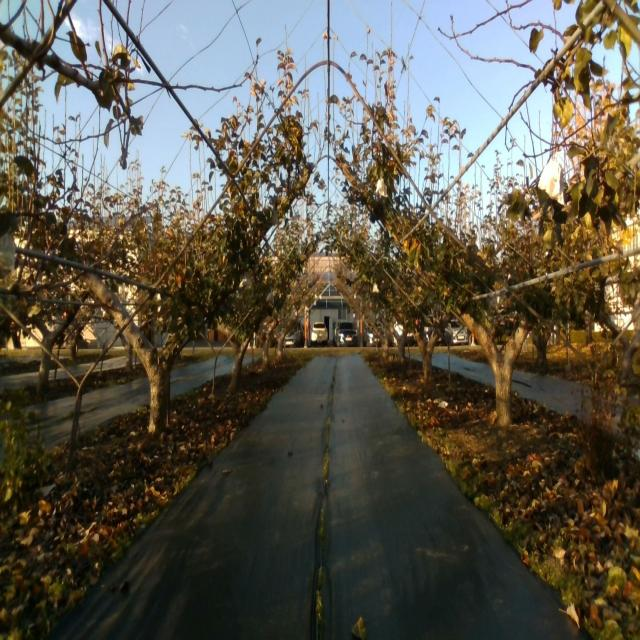pearbags: (538, 158, 565, 206), (0, 230, 16, 270), (377, 178, 388, 197)
